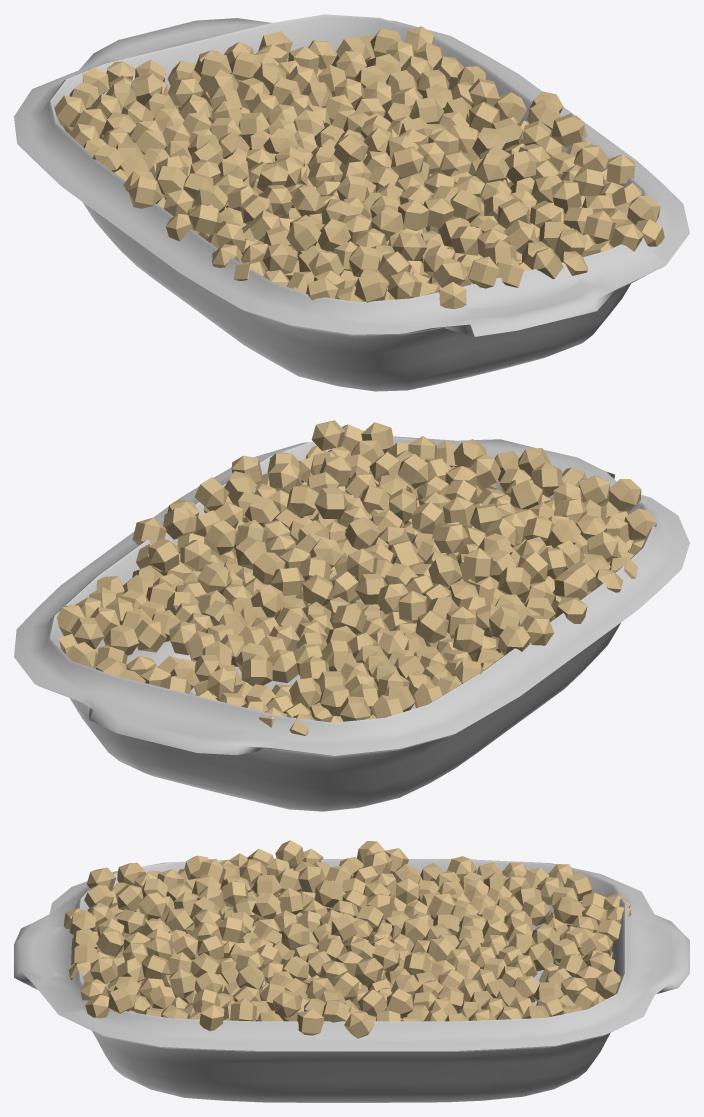
File: ceci.fbx
3 views of the same model, one above another, from view 1: azimuth 30°, elevation 25°; view 2: azimuth 150°, elevation 25°; view 3: azimuth 270°, elevation 25° (orthographic). The views are drawn at different scales.
Parts seen in each view (by area): view 1: AM216_36_nut_01_7367_1, piatti_remesh; view 2: AM216_36_nut_01_7367_1, piatti_remesh; view 3: AM216_36_nut_01_7367_1, piatti_remesh.
Part boxes in pixels (box(x1,y1,x2,y2)): AM216_36_nut_01_7367_1: box(54, 26, 664, 308); piatti_remesh: box(14, 14, 689, 391); AM216_36_nut_01_7367_1: box(57, 420, 656, 735); piatti_remesh: box(14, 436, 689, 811); AM216_36_nut_01_7367_1: box(63, 840, 631, 1038); piatti_remesh: box(14, 859, 689, 1102).
Size of the model in its own units: 26.93 by 8.96 by 40.09.
